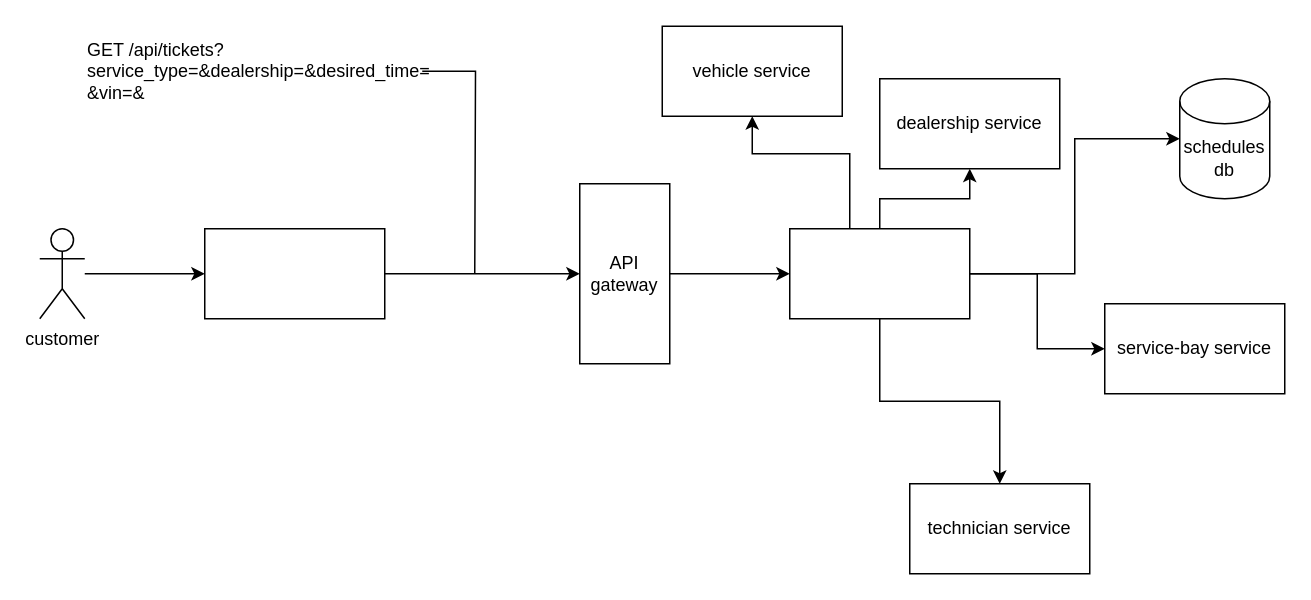
This 1311x600 diagram has some shape labels left out. Each missing label, with the box of its shape:
Cilent side: (203, 227, 385, 319)
scheduler service: (788, 227, 970, 319)
